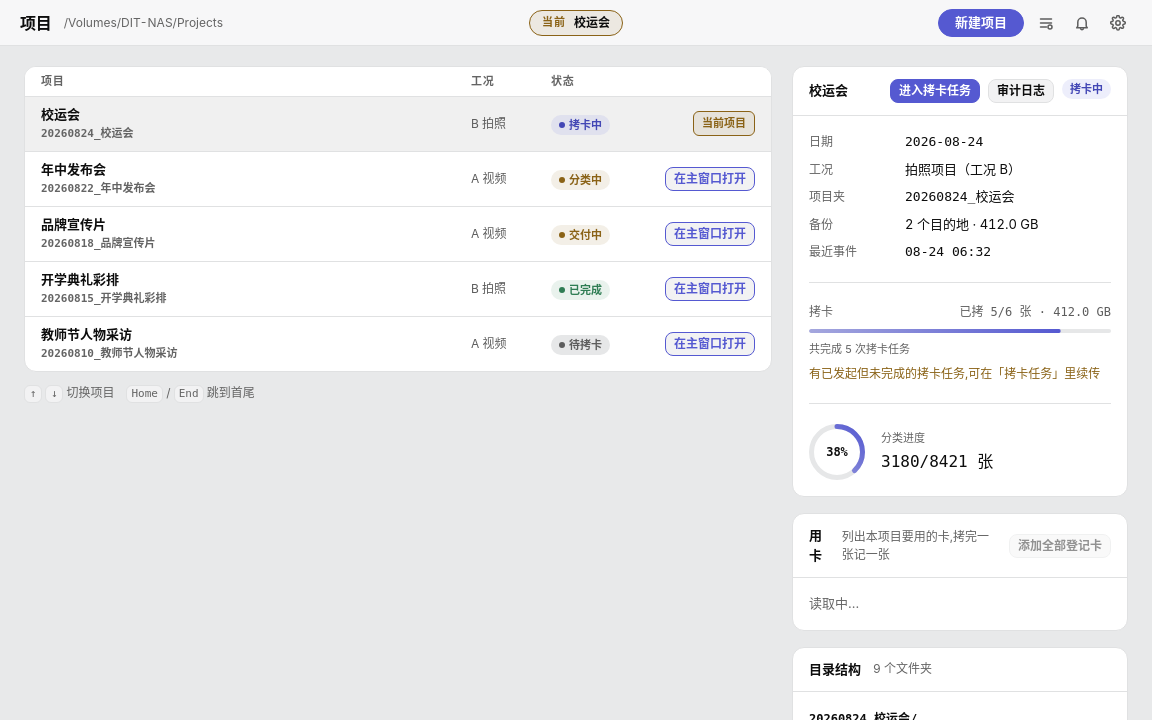
审计日志入口 › 点击后弹出模态抽屉，抬头带项目夹名
What coordinates should you click on to do the following:
click the button with test id "audit-open"
I would click on:
 (1021, 91)
Its box is [988,79,1054,103].
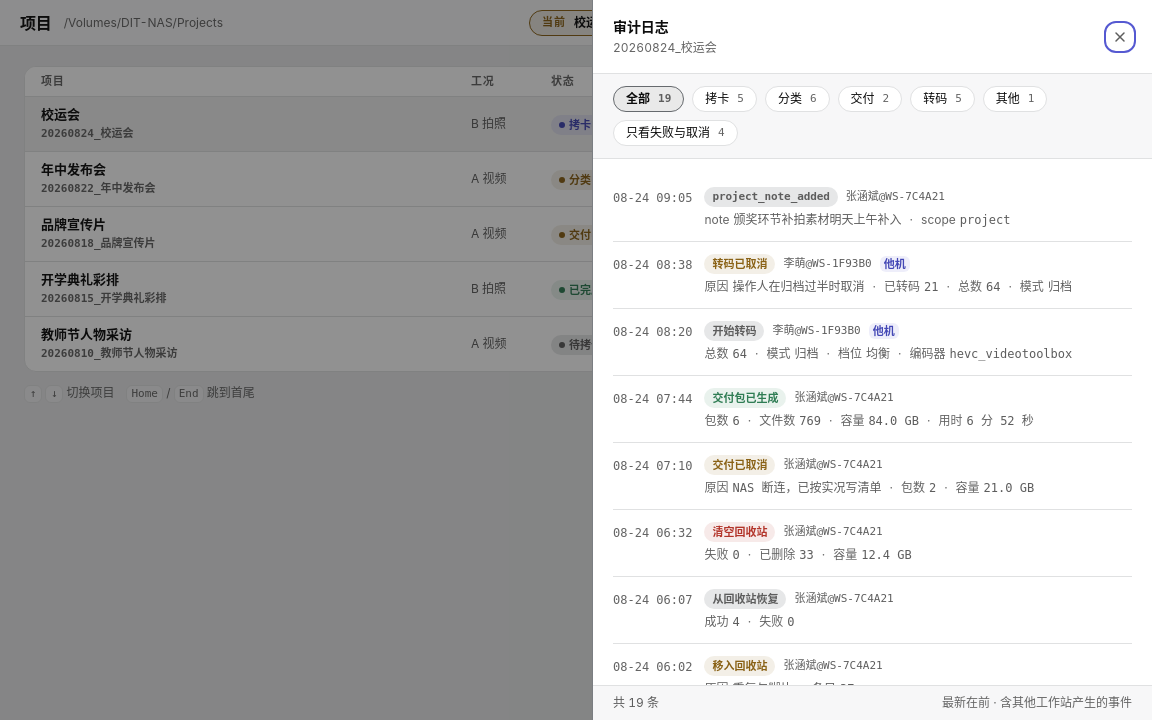
Expected: the dialog with test id "audit-log-drawer" is shown, [592,0,1151,719]
Expected: the heading "审计日志" is shown, [613,18,669,35]
Expected: the dialog with test id "audit-log-drawer" shows "20260824_校运会", [613,40,717,55]
